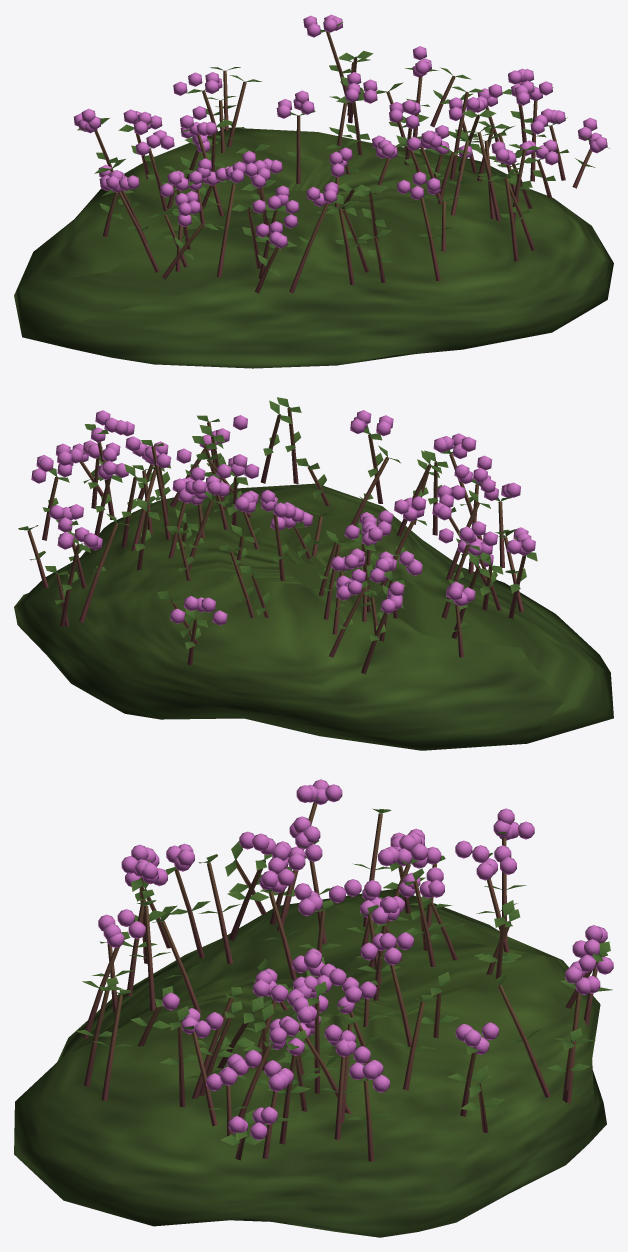
File: thyme.glb
3 views of the same model, one above another, from view 1: azimuth 30°, elevation 25°; view 2: azimuth 150°, elevation 25°; view 3: azimuth 270°, elevation 25° (orthographic). The views are drawn at different scales.
Visible parts, largest first — view 1: thyme; view 2: thyme; view 3: thyme.
Part boxes in pixels (box(x1,y1,x2,y2)): thyme: box(14, 14, 613, 368); thyme: box(14, 397, 613, 750); thyme: box(14, 779, 613, 1237).
Size of the model in its own units: 0.2778 by 0.0764 by 0.2092.
1 material, 1 textured.
